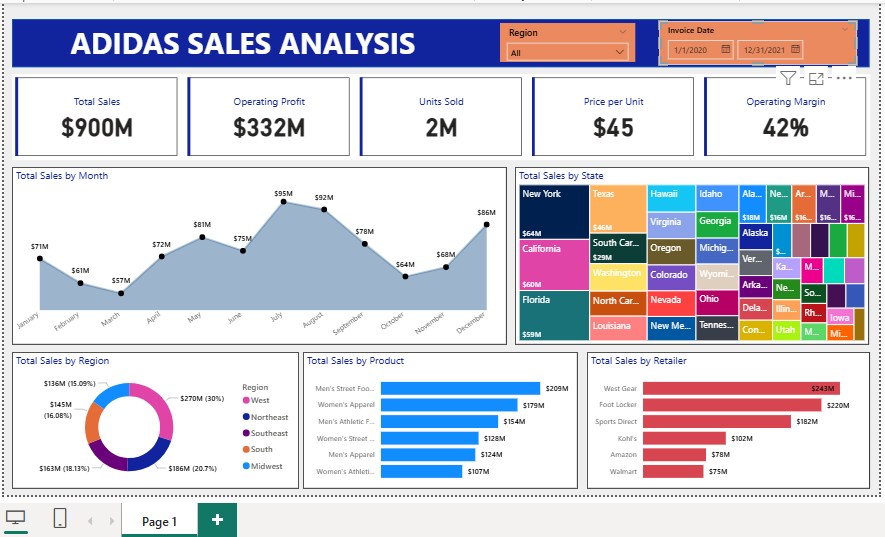

The dashboard page shown, as its layout file describes it:
{"tool":"powerbi","page":{"name":"Page 1","canvas":[1280,720],"ordinal":0},"visuals":[{"type":"shape","box":[11.8,23.5,1254.8,70.6],"z":0},{"type":"textbox","box":[92.4,23.5,547.6,70.6],"z":1000},{"type":"cardVisual","fields":{"Data":["Sum(Data Sales Adidas.Total Sales)","Sum(Data Sales Adidas.Operating Profit)","Sum(Data Sales Adidas.Units Sold)","Avg(Data Sales Adidas.Price per Unit)","Avg(Data Sales Adidas.Operating Margin)"]},"box":[11.7,103.9,1255.6,125.9],"z":2000},{"type":"areaChart","title":" Total Sales by Month","fields":{"Category":["Data Sales Adidas.Invoice Date.Variation.Date Hierarchy.Month"],"Y":["Sum(Data Sales Adidas.Total Sales)"]},"box":[11.7,240,724.4,260.5],"z":3000},{"type":"treemap","title":"Total Sales by State","fields":{"Group":["Data Sales Adidas.State"],"Values":["Sum(Data Sales Adidas.Total Sales)"]},"box":[747.8,240,518,260.5],"z":4000},{"type":"donutChart","title":" Total Sales by Region","fields":{"Category":["Data Sales Adidas.Region"],"Y":["Sum(Data Sales Adidas.Total Sales)"]},"box":[11.7,510.7,420,200],"z":5000},{"type":"barChart","title":" Total Sales by Product","fields":{"Category":["Data Sales Adidas.Product"],"Y":["Sum(Data Sales Adidas.Total Sales)"]},"box":[437.6,510.7,402.4,200.5],"z":6000},{"type":"barChart","title":" Total Sales by Retailer","fields":{"Y":["Sum(Data Sales Adidas.Total Sales)"],"Category":["Data Sales Adidas.Retailer"]},"box":[853.2,510.7,414.1,200.5],"z":7000},{"type":"slicer","fields":{"Values":["Data Sales Adidas.Region"]},"box":[725.9,29.3,197.6,57.1],"z":8000},{"type":"slicer","fields":{"Values":["Data Sales Adidas.Invoice Date"]},"box":[958.5,26.3,289.8,64.4],"z":8001}]}

Visuals, with their boxes in screenshot pixels (x1, y1, x2, y2):
shape: box(13, 16, 868, 64)
textbox: box(68, 16, 441, 64)
cardVisual - Sum(Data Sales Adidas.Total Sales) x Sum(Data Sales Adidas.Operating Profit): box(13, 71, 869, 157)
" Total Sales by Month" areaChart: box(13, 164, 507, 341)
"Total Sales by State" treemap: box(514, 164, 868, 341)
" Total Sales by Region" donutChart: box(13, 348, 299, 485)
" Total Sales by Product" barChart: box(303, 348, 577, 485)
" Total Sales by Retailer" barChart: box(586, 348, 869, 485)
slicer - Data Sales Adidas.Region: box(500, 20, 634, 59)
slicer - Data Sales Adidas.Invoice Date: box(658, 18, 856, 62)
